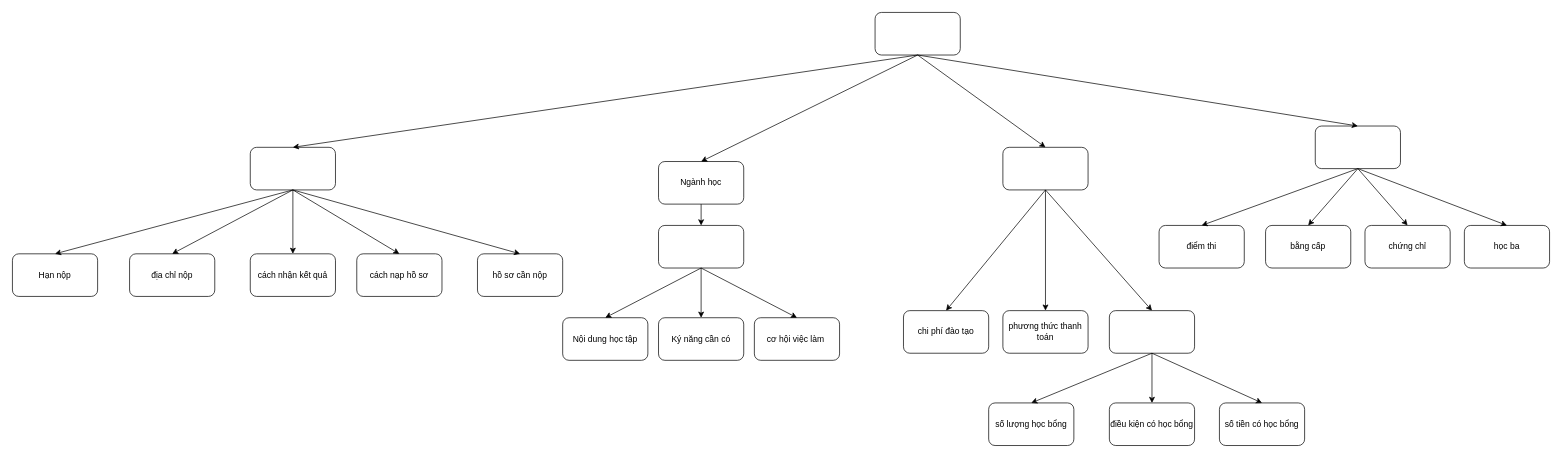
Some shapes in this 1562 by 458 pixel diagram are drawn without their labels. The shapes that lost their labels are listed below. From the top down, each one's centre as x and y in pixels, then its label:
point 917,33: chatbot
point 1357,147: Điều kiện trúng tuyển
point 292,168: Quy trình tuyển sinh
point 1045,168: Chi phí học tập
point 701,246: cầu hỏi chi tiết về ngành học
point 1152,331: học bổng hỗ trợ
